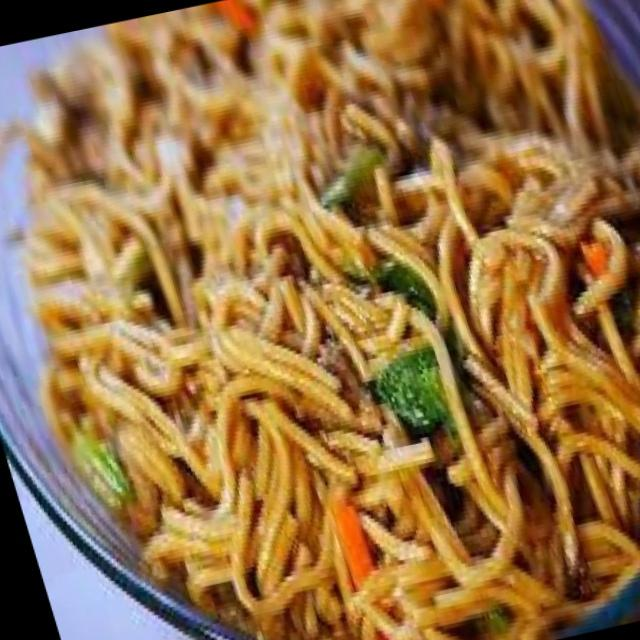pancit bihon: (25, 0, 639, 639)
